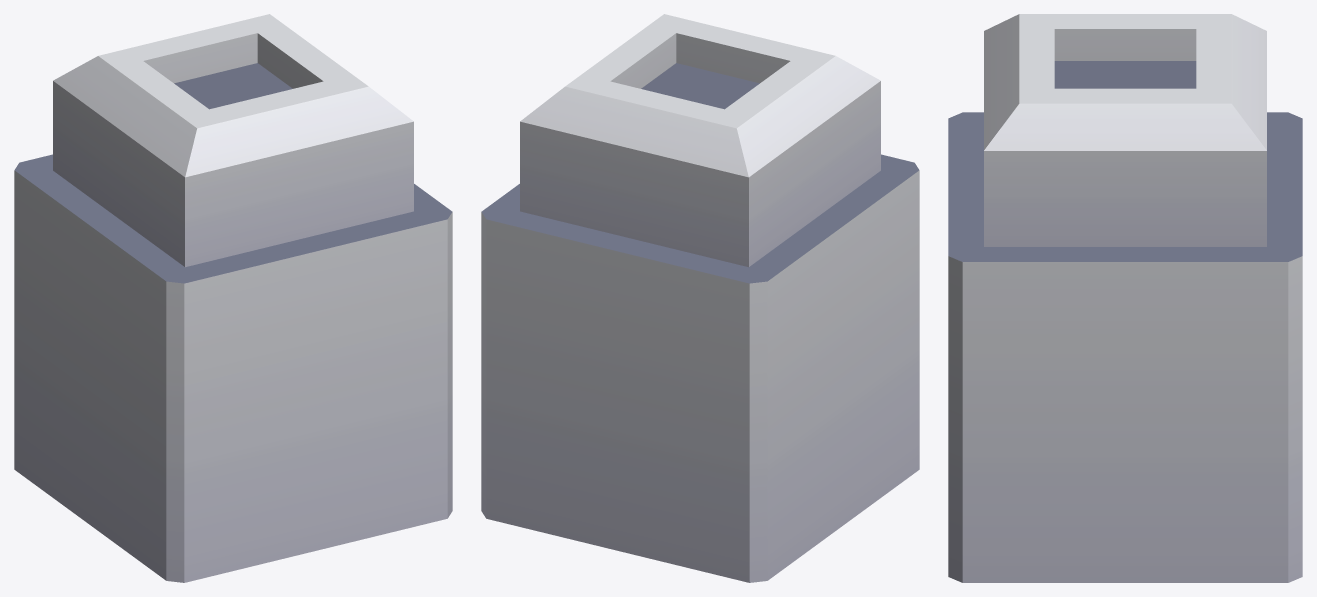
Rendered from commercial__low-detail-building-n.glb.
3 views of the same model, side by side, from view 1: azimuth 30°, elevation 25°; view 2: azimuth 150°, elevation 25°; view 3: azimuth 270°, elevation 25° (orthographic). The views are drawn at different scales.
Parts seen in each view (by area): view 1: low-detail-building-n; view 2: low-detail-building-n; view 3: low-detail-building-n.
Part boxes in pixels (x1,y1,x2,y2): low-detail-building-n: [14, 14, 452, 582]; low-detail-building-n: [481, 14, 919, 582]; low-detail-building-n: [948, 14, 1302, 582].
Size of the model in its own units: 0.5 by 0.7 by 0.5.
1 material, 1 textured.
